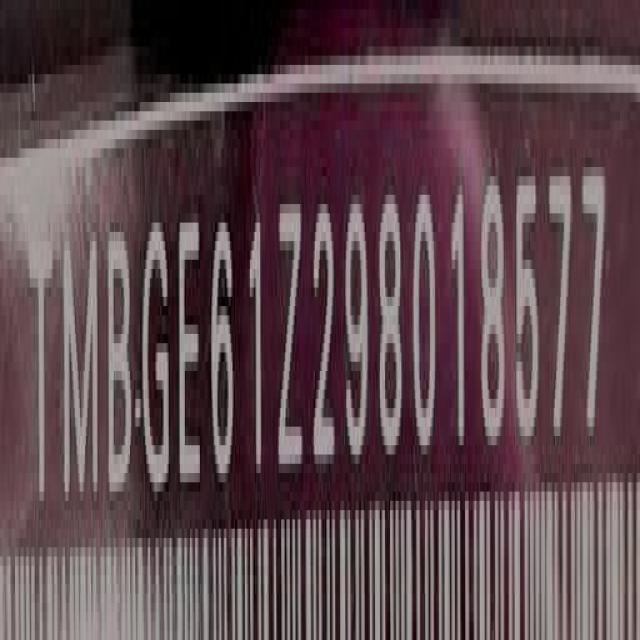0: (411, 180, 438, 464)
1: (449, 170, 473, 461), (250, 211, 268, 496)
2: (312, 196, 336, 484)
5: (514, 169, 542, 451)
6: (210, 211, 236, 500)
7: (580, 158, 608, 453), (548, 161, 573, 450)
8: (479, 172, 506, 456), (380, 188, 406, 468)
9: (346, 198, 371, 473)
B: (106, 225, 134, 506)
E: (180, 210, 206, 503)
G: (139, 219, 170, 505)
M: (61, 247, 101, 514)
T: (26, 223, 55, 495)
Z: (276, 192, 306, 481)
